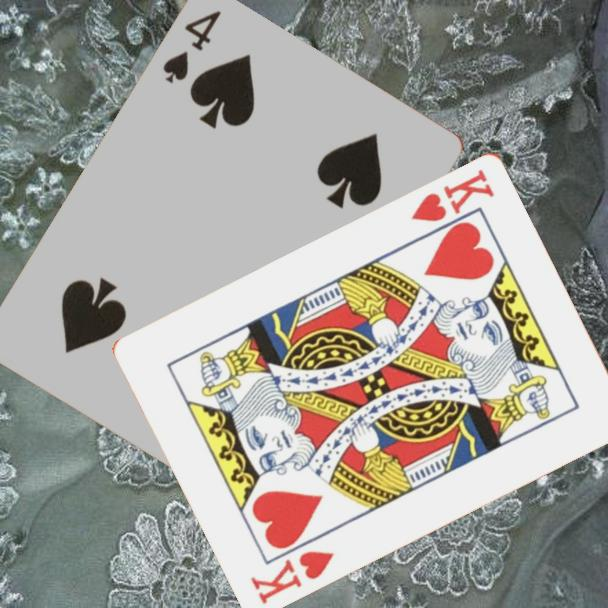h13: (247, 546, 337, 607), (407, 165, 498, 224)
s04: (159, 6, 224, 86)
